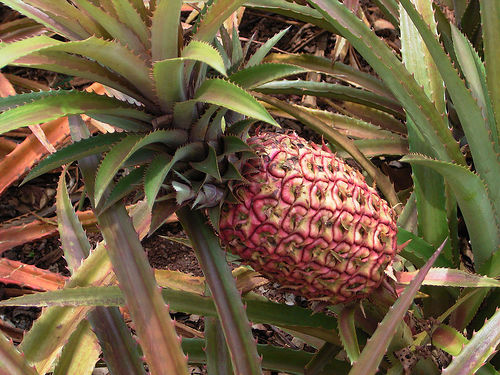pineapple: (0, 0, 398, 302)
